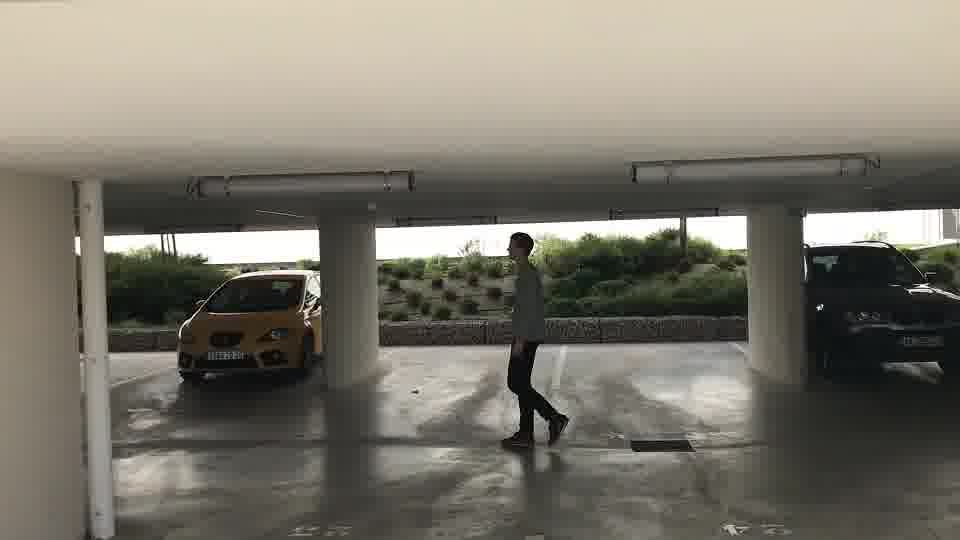jugador: (473, 230, 585, 454)
